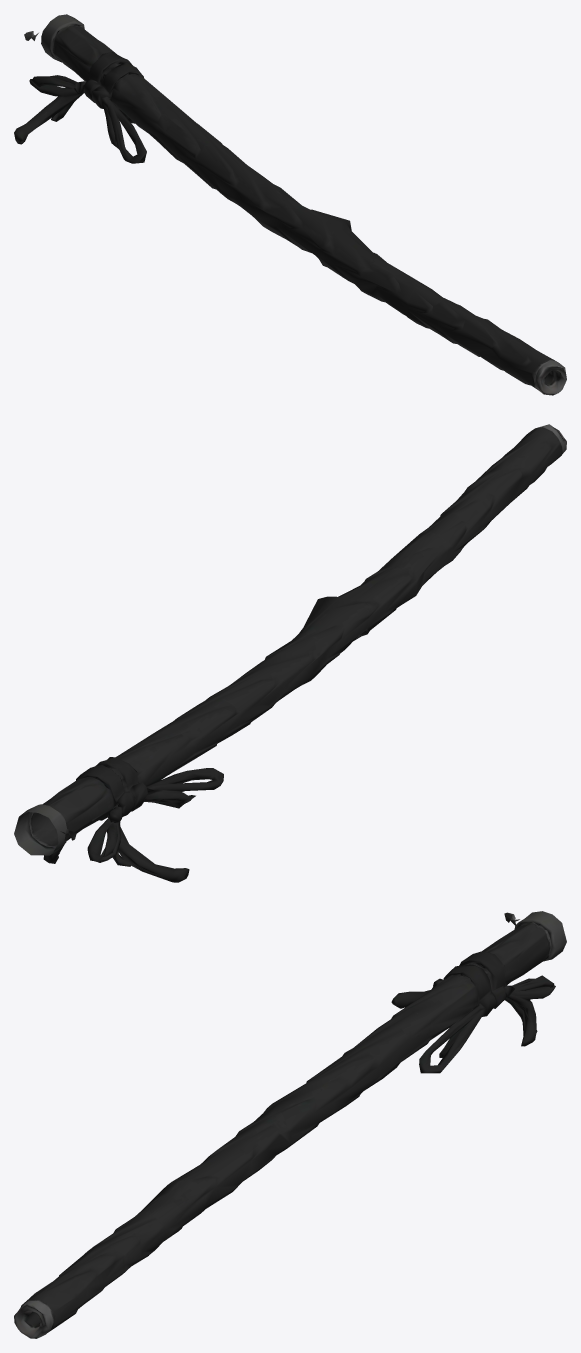
The model's file is katana_sheathed_empty.glb.
The picture shows the model from 3 angles, top to bottom: view 1: azimuth 30°, elevation 25°; view 2: azimuth 150°, elevation 25°; view 3: azimuth 330°, elevation 25°; orthographic projection. The views are drawn at different scales.
Visible parts, largest first — view 1: Sheath; view 2: Sheath; view 3: Sheath.
Boxes of the visible parts, left/top/right/bottom form: Sheath: left=14, top=14, right=566, bottom=395; Sheath: left=14, top=424, right=566, bottom=882; Sheath: left=14, top=911, right=566, bottom=1338.
Size of the model in its own units: 0.1209 by 0.0785 by 0.8228.
Materials: 1 (1 with a texture image).
